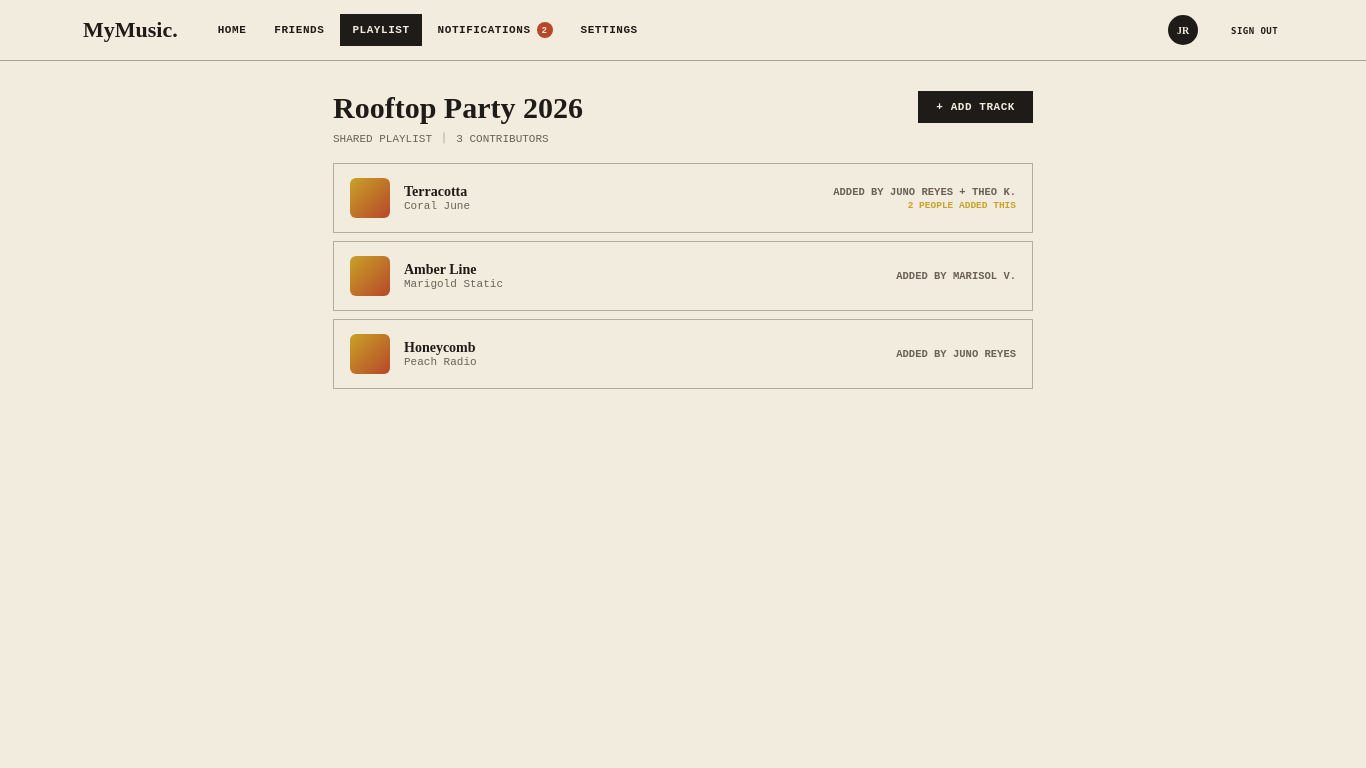
Test: shared playlist › blocks the duplicate add until "add anyway" is chosen
Click the button "+ ADD TRACK": [976, 107] box x1=918 y1=91 x2=1033 y2=123
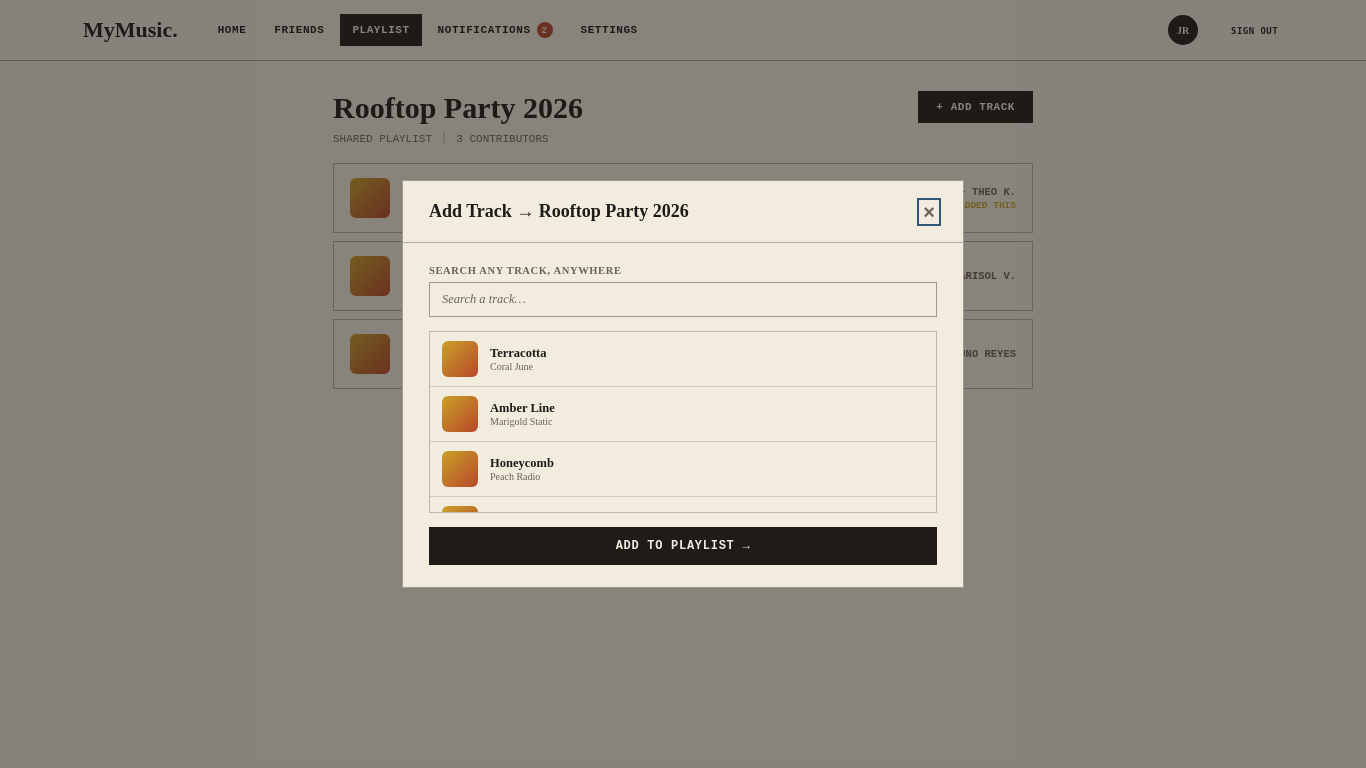
Click the button "Terracotta Coral June": [460, 359] box x1=430 y1=332 x2=936 y2=387
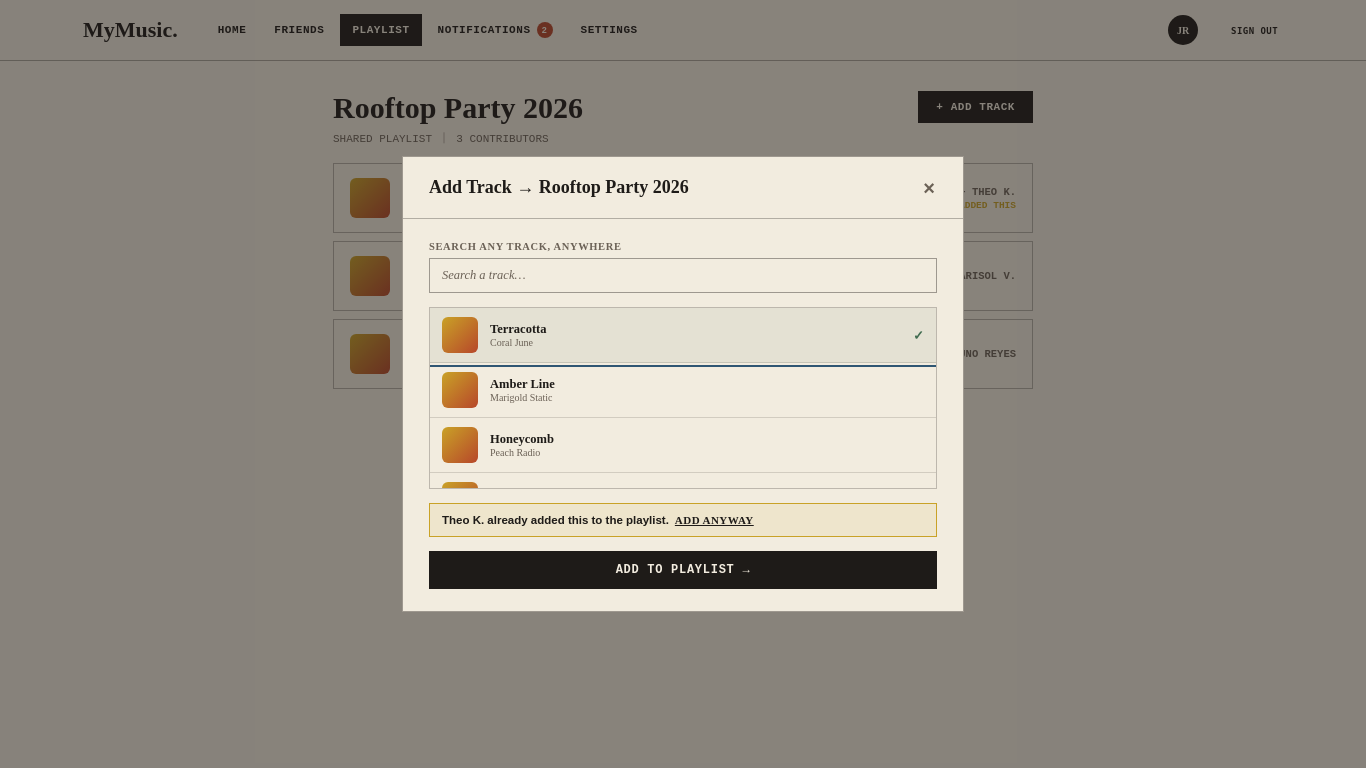
Click the button "ADD TO PLAYLIST →": [683, 570] box x1=429 y1=551 x2=937 y2=589
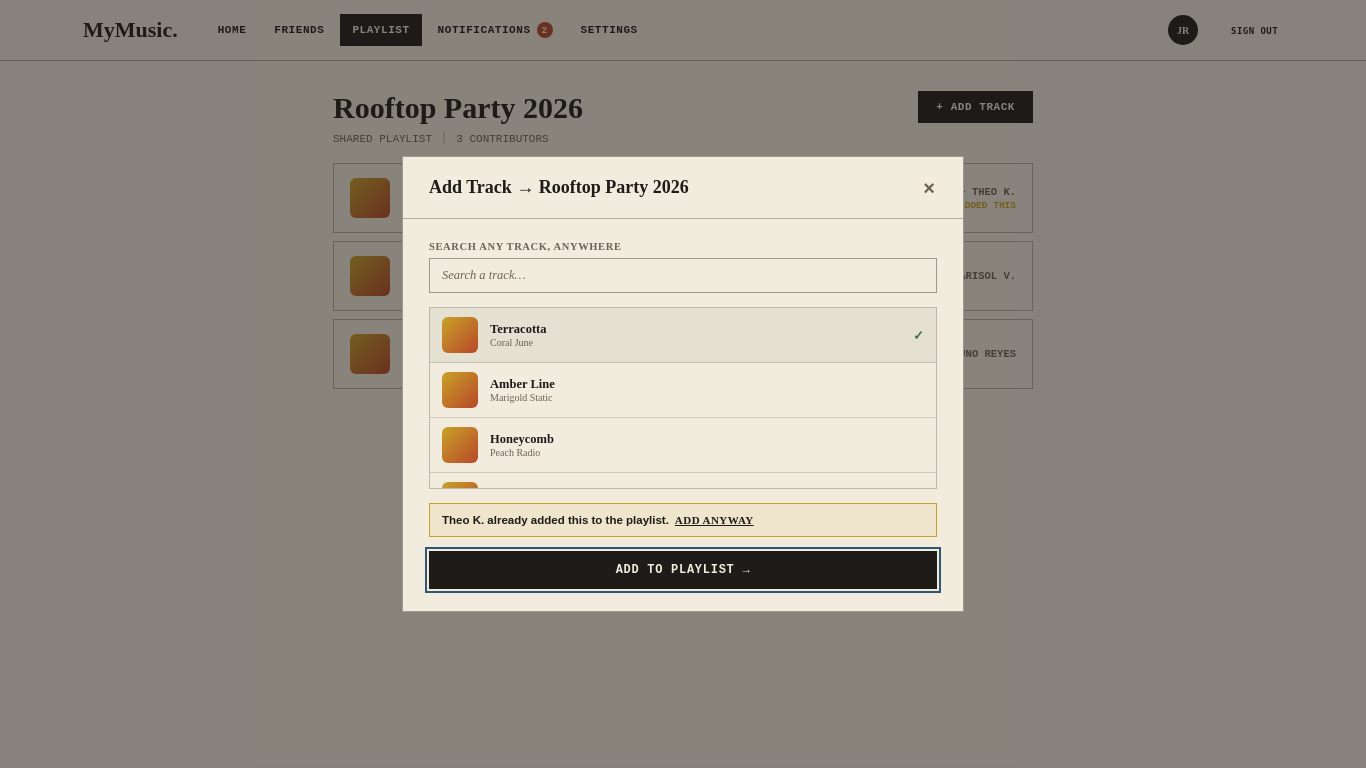
Expected: the text "Added Terracotta to Rooftop Party 2026." is not shown
Click the button "ADD ANYWAY": [714, 520] box x1=675 y1=514 x2=754 y2=526
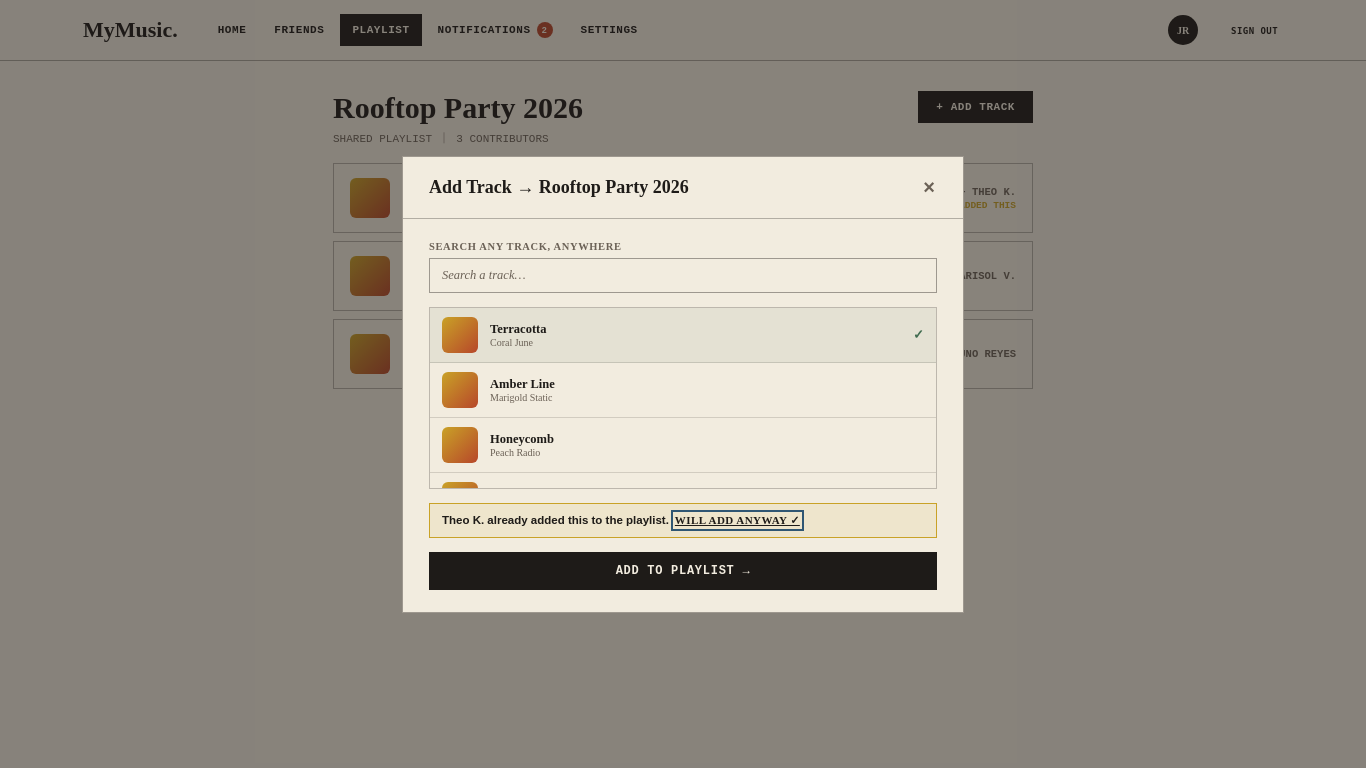
Click the button "ADD TO PLAYLIST →": [683, 570] box x1=429 y1=552 x2=937 y2=590
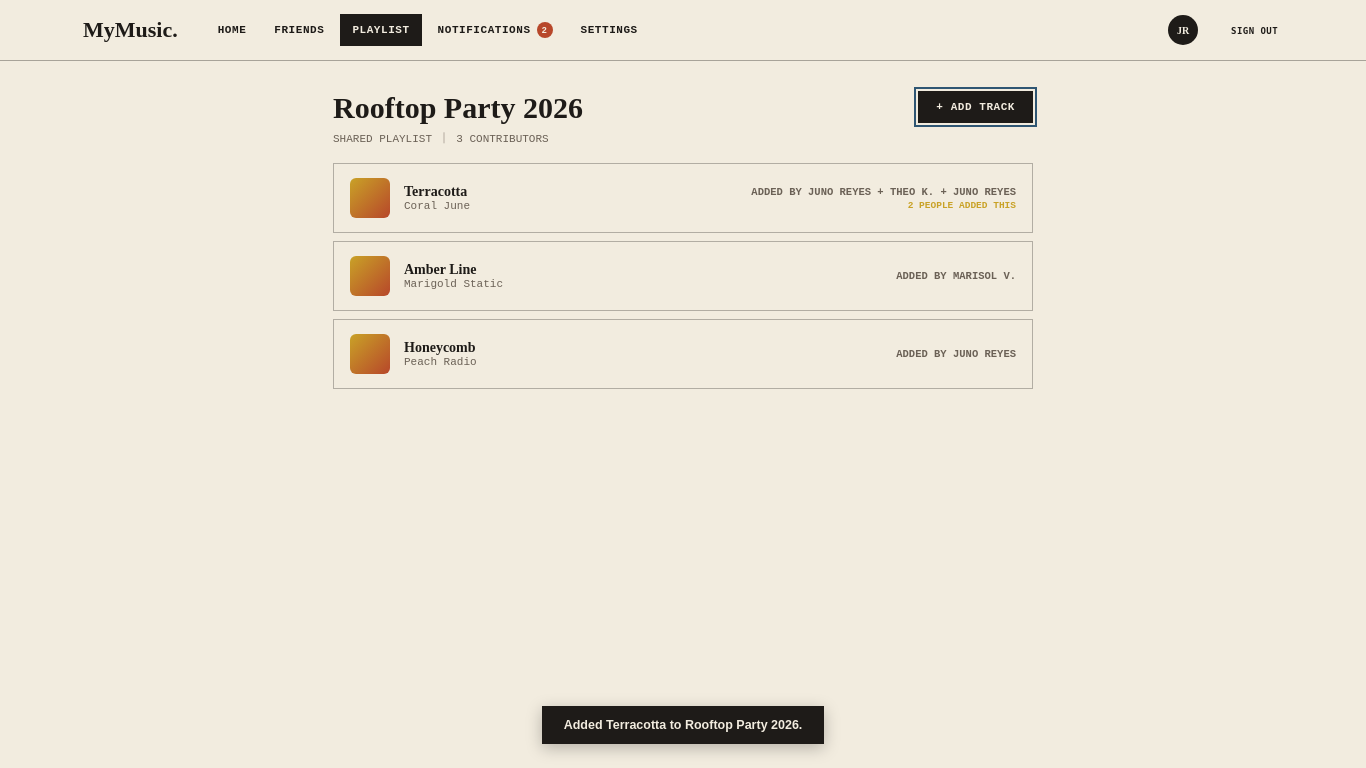
Expected: the text "Added Terracotta to Rooftop Party 2026." is shown, x1=542 y1=706 x2=824 y2=744
